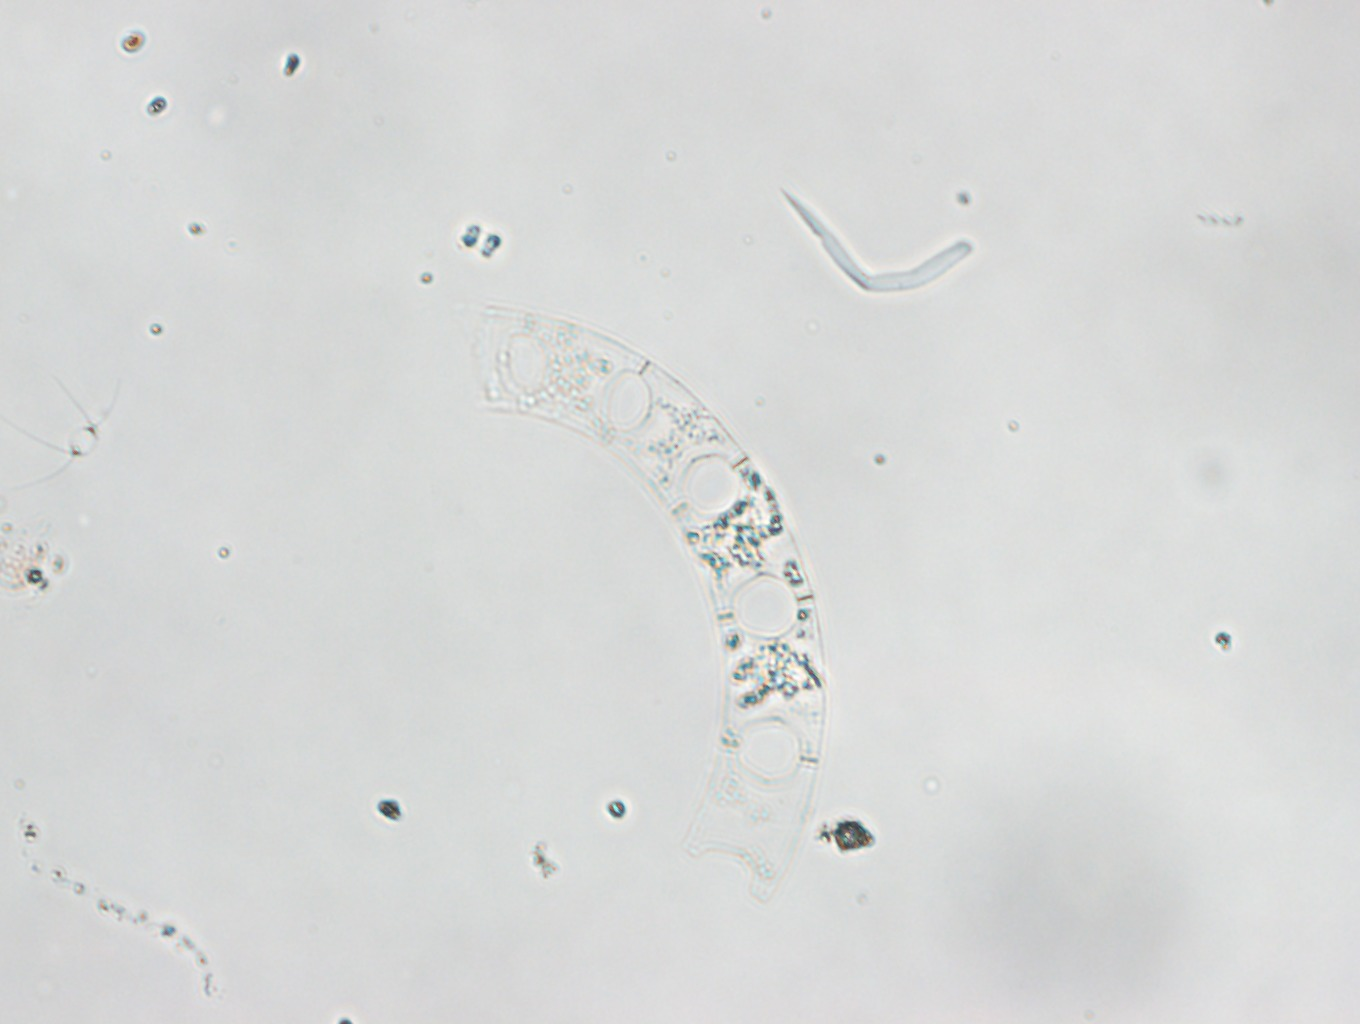chaetoceros: (1, 367, 126, 495)
eucampia: (468, 303, 829, 902)
